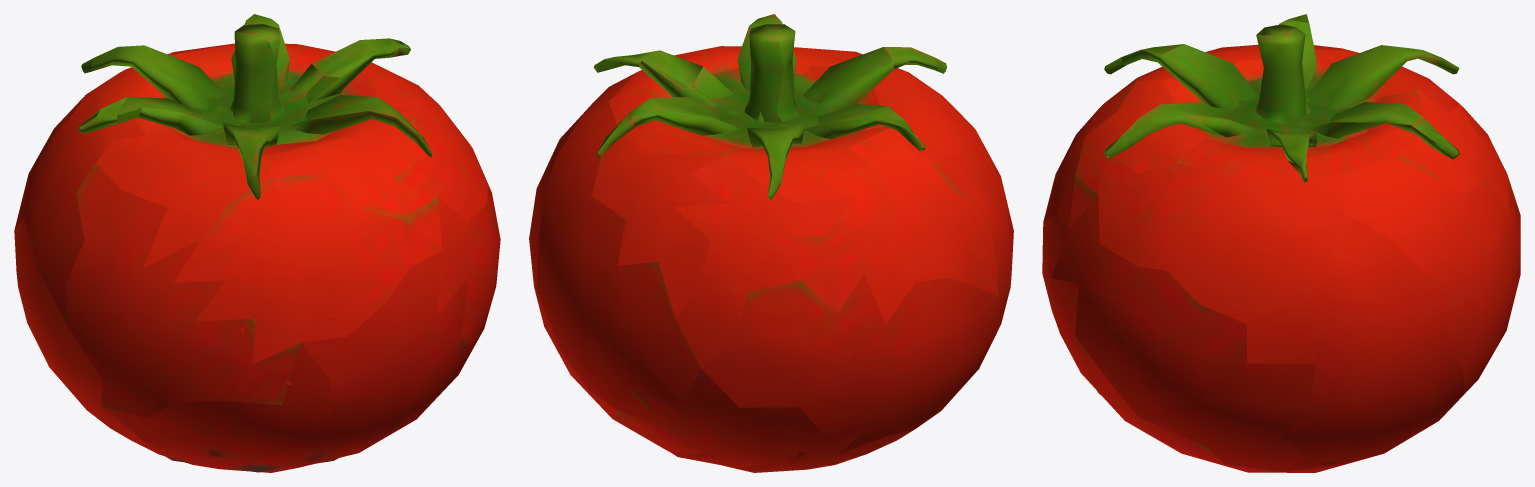
The model's file is tomato.glb.
3 renders of one model, left to right at view 1: azimuth 30°, elevation 25°; view 2: azimuth 150°, elevation 25°; view 3: azimuth 270°, elevation 25°, orthographic.
Bounding box in the file's own units: 1 × 0.9473 × 0.9961.
Materials: 1 (1 with a texture image).
